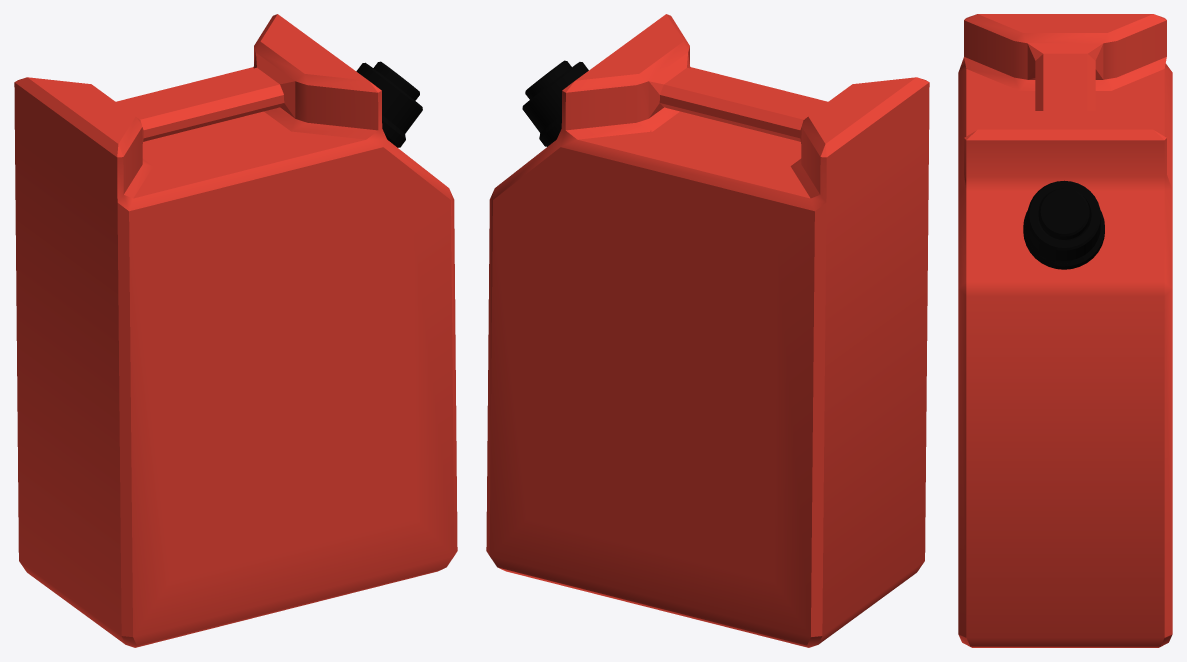
The model's file is Galao_Vermelho (1).fbx.
3 renders of one model, left to right at view 1: azimuth 30°, elevation 25°; view 2: azimuth 150°, elevation 25°; view 3: azimuth 270°, elevation 25°, orthographic. The views are drawn at different scales.
Parts seen in each view (by area): view 1: Cube; view 2: Cube; view 3: Cube.
Part boxes in pixels (x1,y1,x2,y2): Cube: [14, 14, 457, 647]; Cube: [486, 14, 929, 647]; Cube: [958, 14, 1172, 647].
Size of the model in its own units: 252 by 349 by 138.
1 material, 1 textured.
